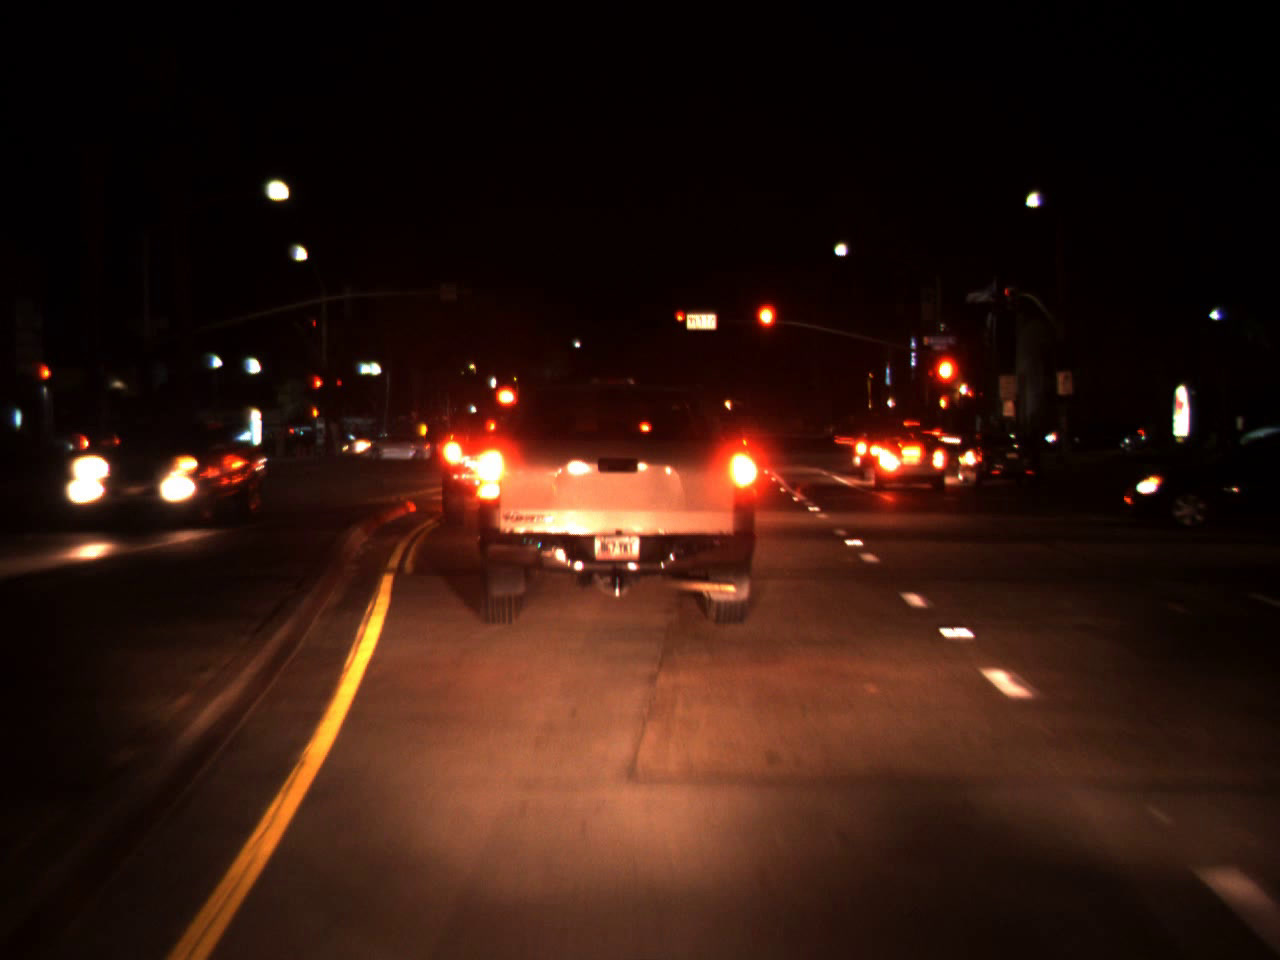stop: (929, 351, 963, 418), (753, 301, 780, 355), (312, 375, 324, 399), (675, 310, 685, 331)
